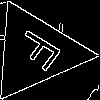F: (11, 27, 72, 78)
